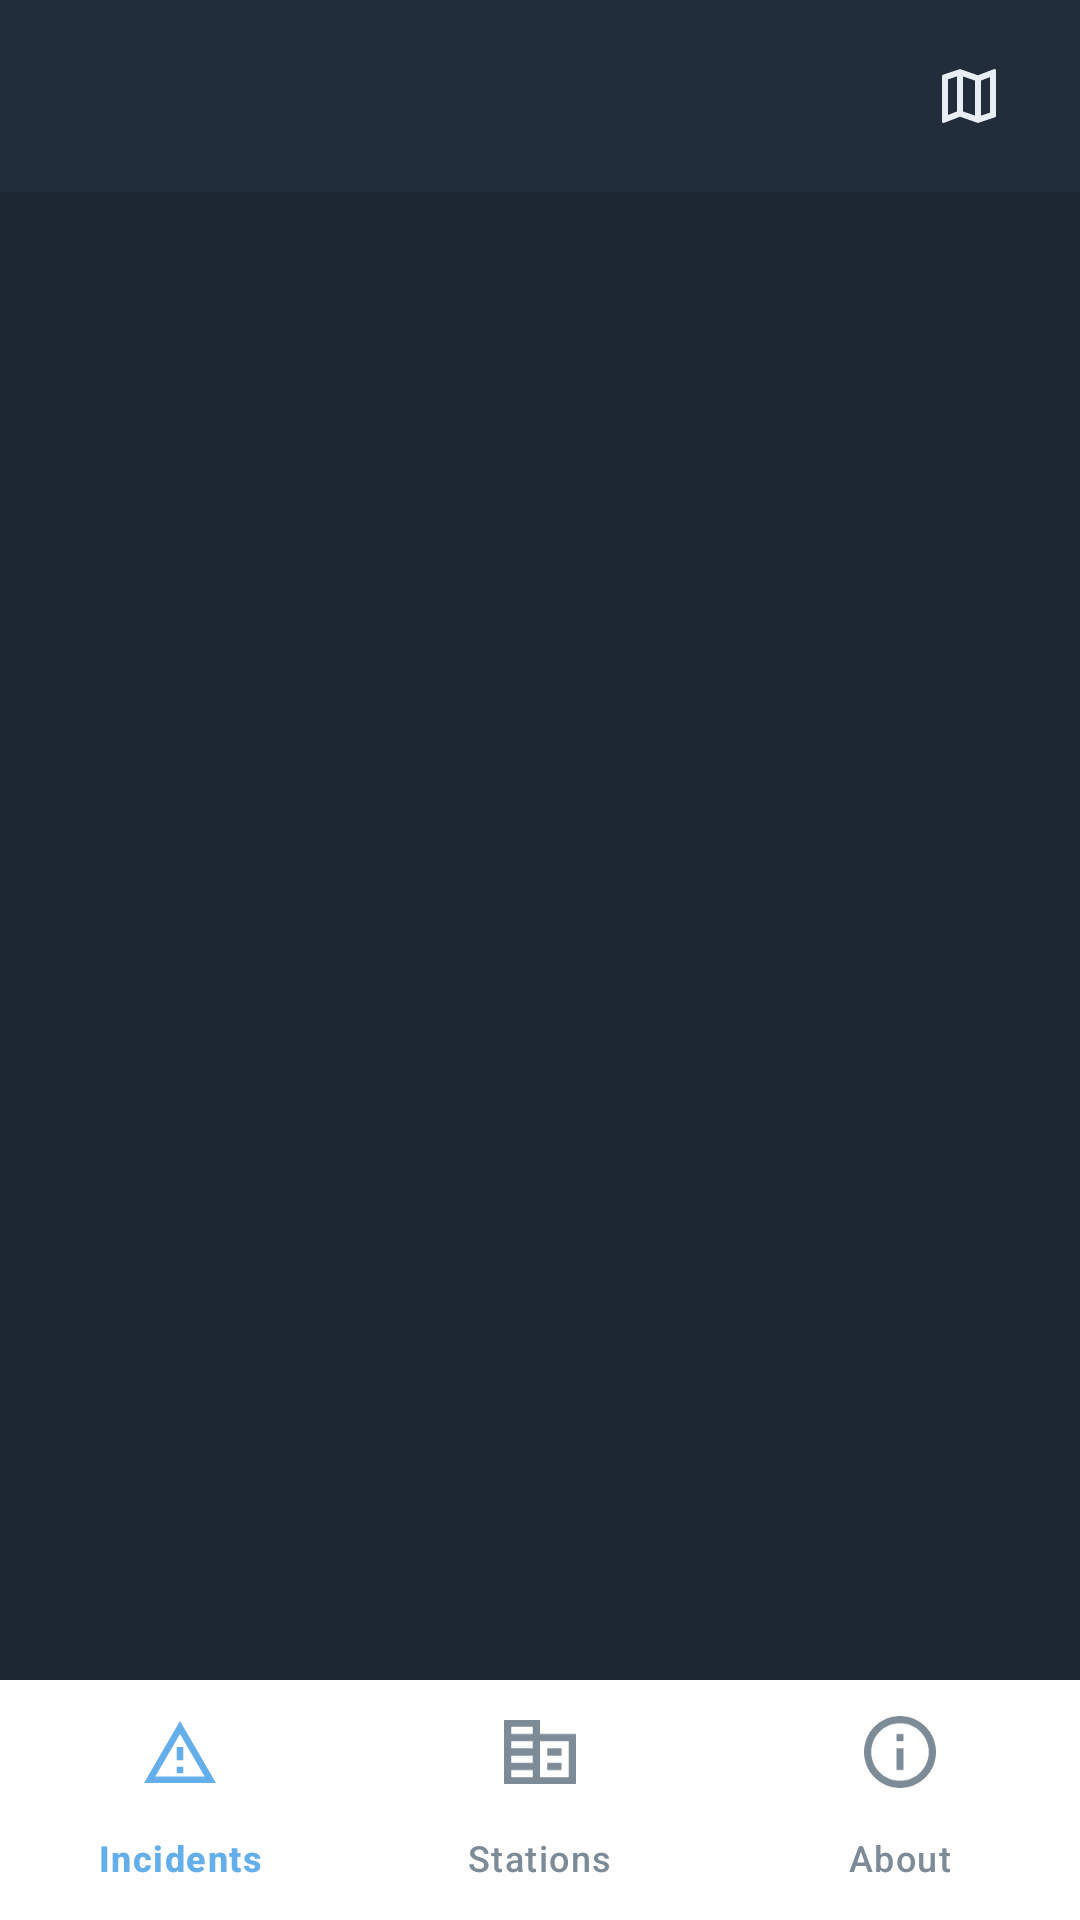

Icons on this 1080px x 1920px Android screen, each with the point to tap as point (x, y):
map: point (969, 96)
